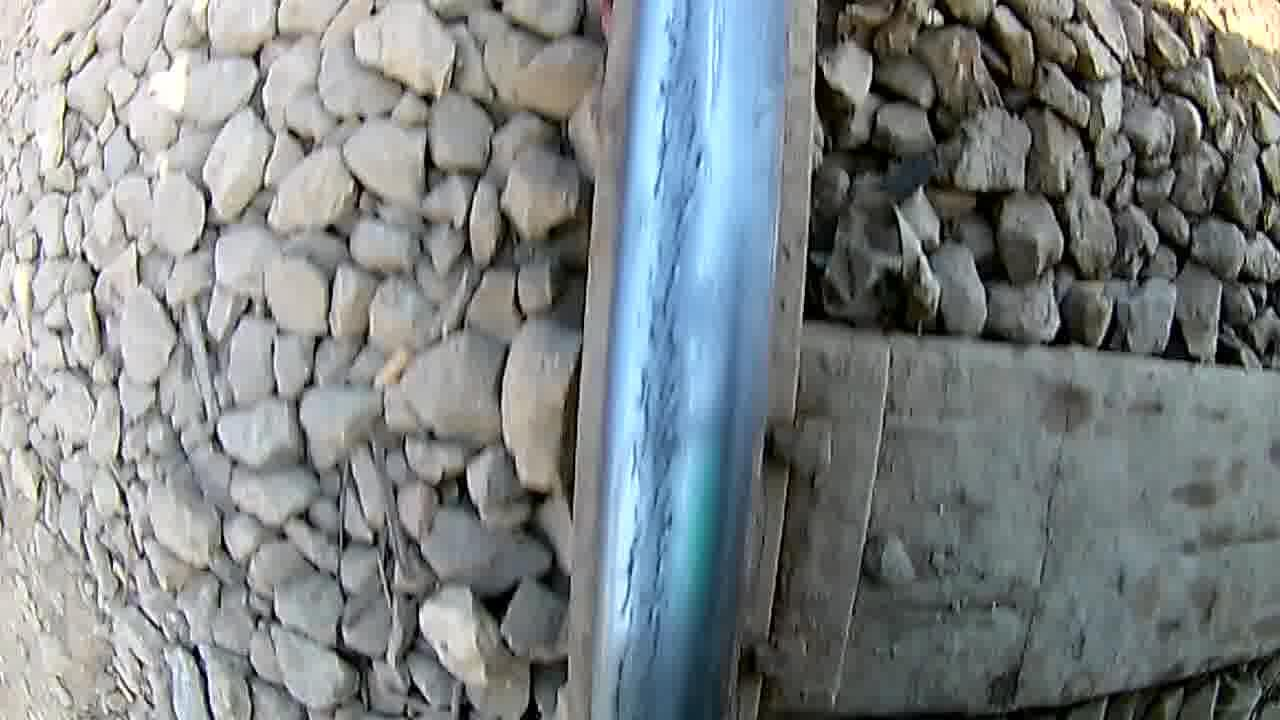normal_track: (614, 0, 712, 720)
